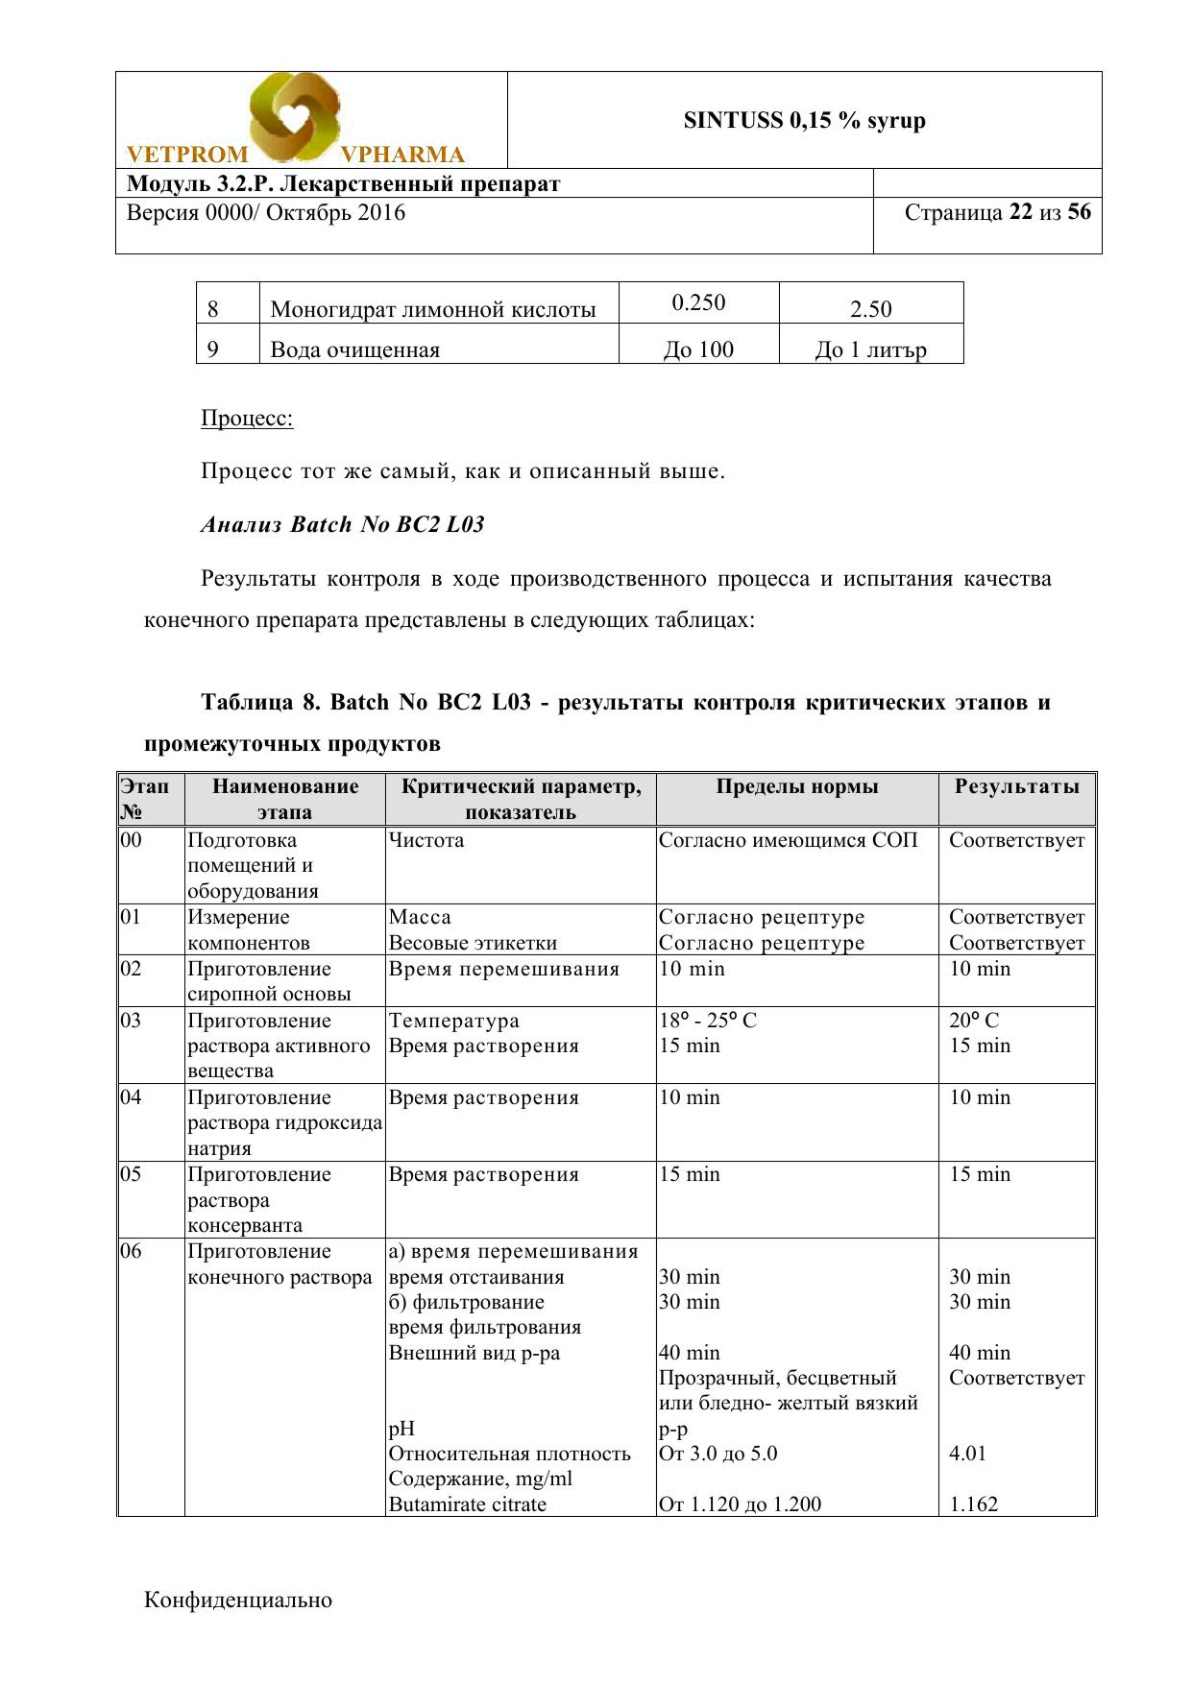full_lined: (116, 772, 1098, 1517), (196, 281, 965, 364)
merged_cells: (115, 71, 1103, 255)
